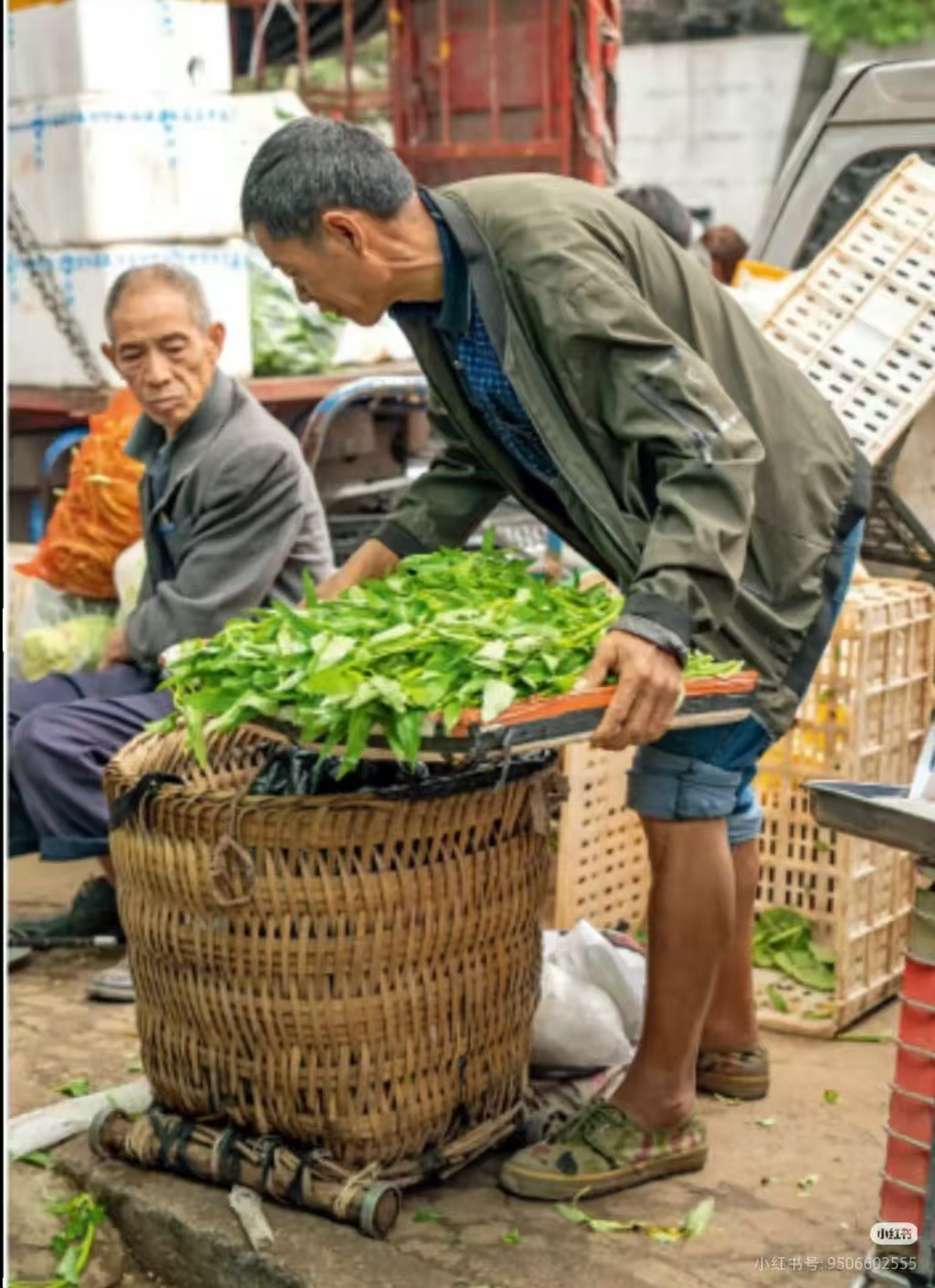bending: (203, 100, 883, 1217)
